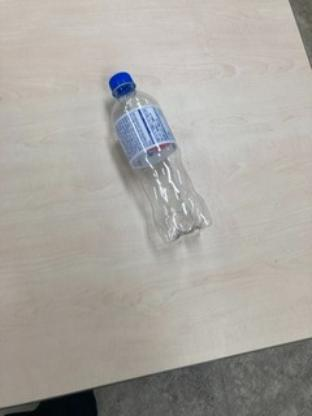Plastic Bottle: (107, 66, 213, 248)
